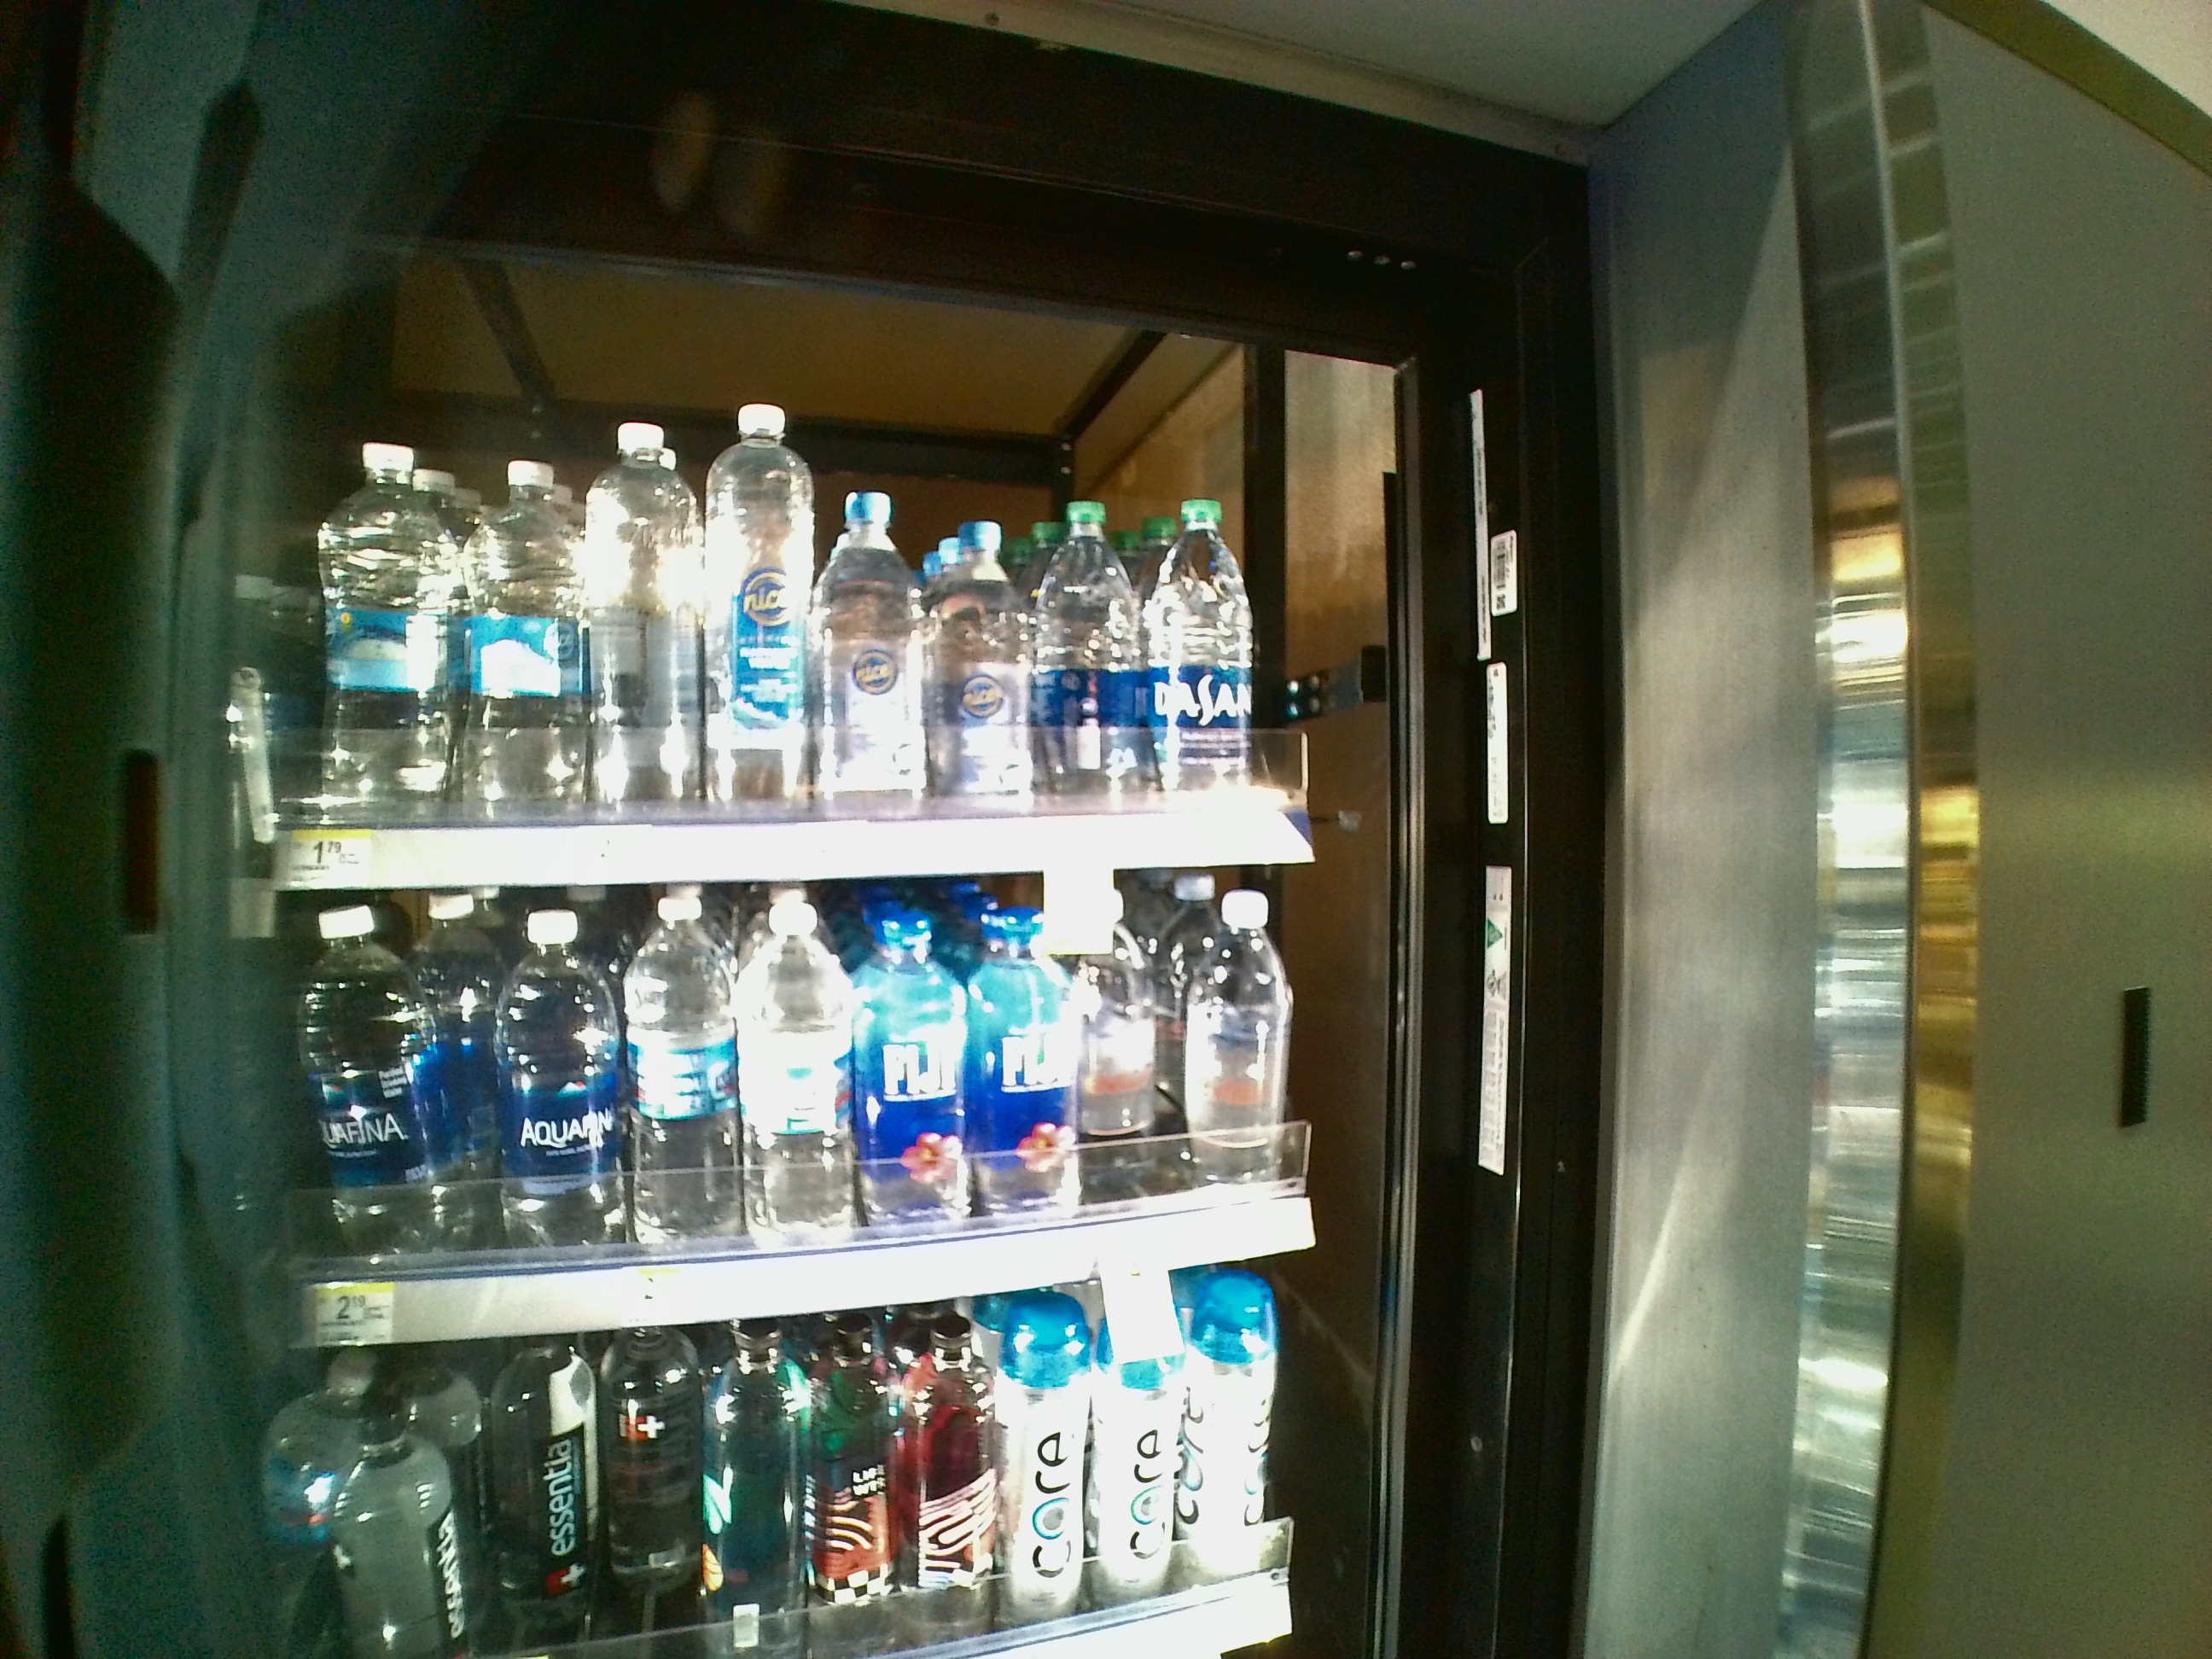shelf: (225, 385, 1360, 889), (223, 884, 1383, 1344)
